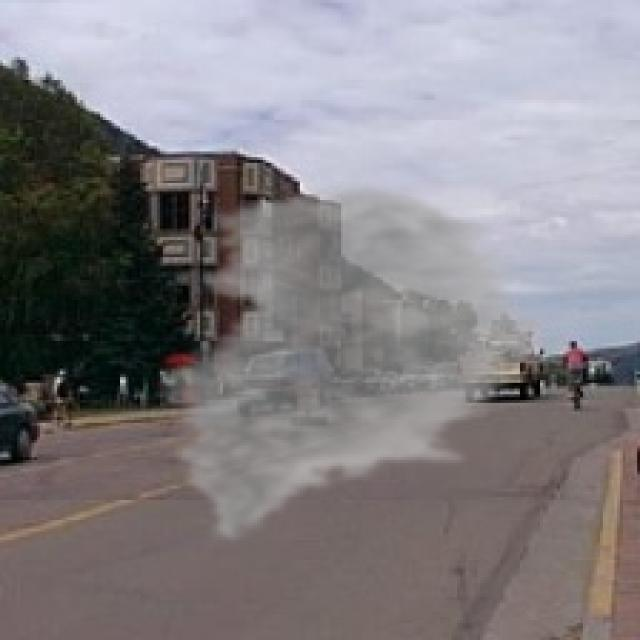smoke: (146, 180, 560, 546)
